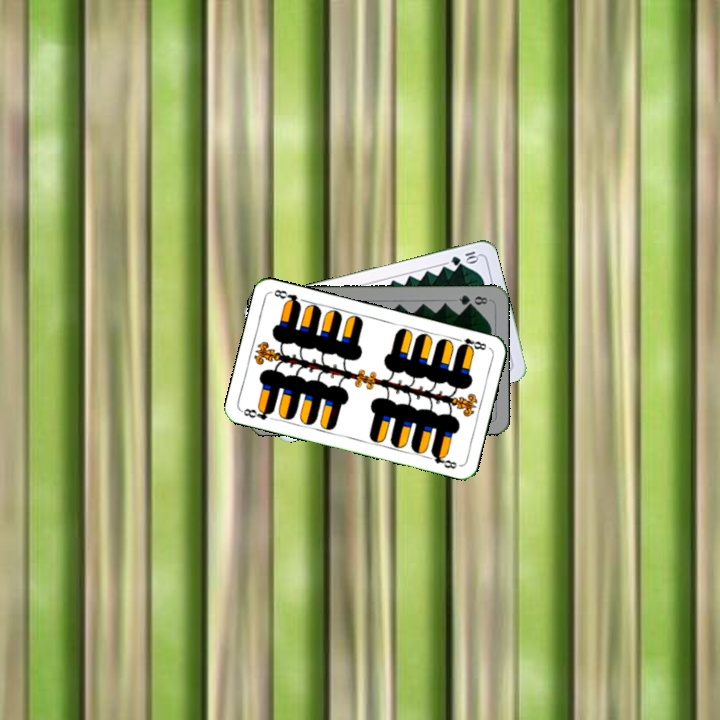E8: (451, 334, 489, 353), (239, 403, 276, 422)
G10: (447, 247, 481, 268)
G8: (455, 291, 490, 308)
